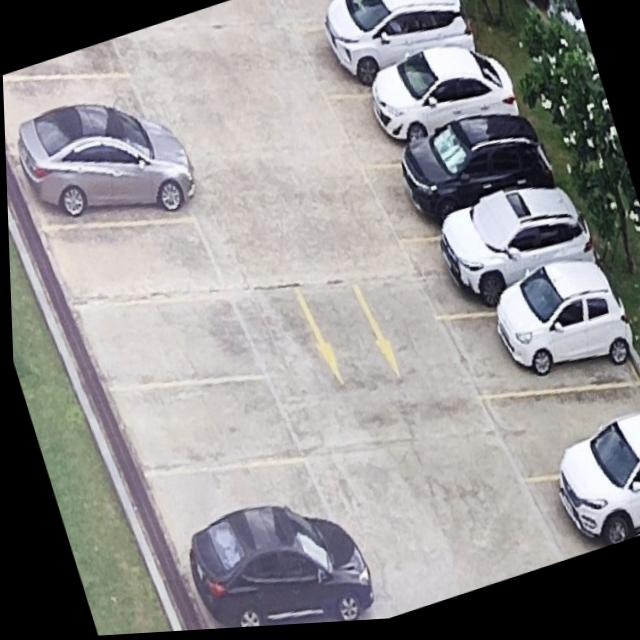car: (185, 510, 368, 630), (16, 105, 192, 217), (438, 194, 592, 310), (399, 120, 552, 228), (494, 267, 629, 381), (371, 51, 518, 146), (323, 0, 474, 88), (552, 420, 640, 550)
freeslot: (94, 371, 310, 485), (61, 288, 274, 400), (31, 214, 235, 316), (470, 381, 640, 498)
